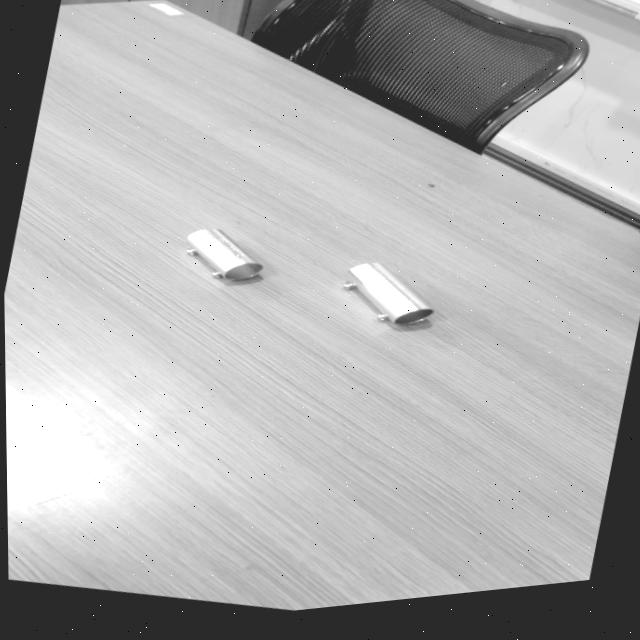Co_Lon: (336, 248, 434, 342)
Co_Nho: (178, 215, 263, 296)
